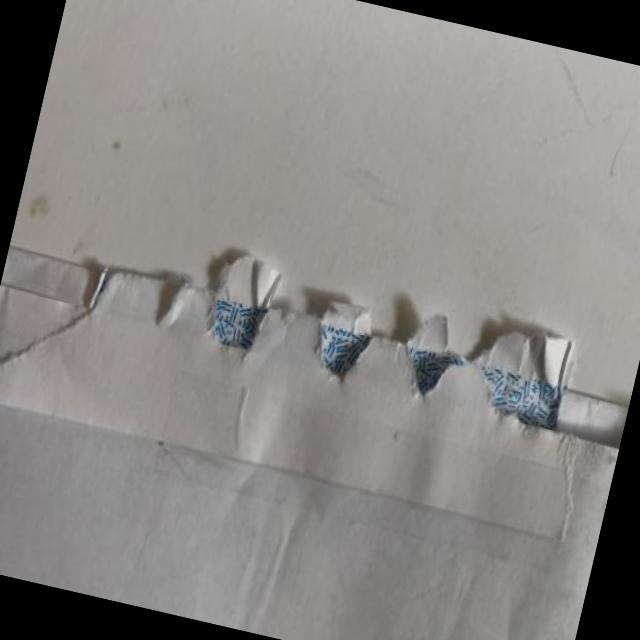paper: (0, 196, 633, 550)
